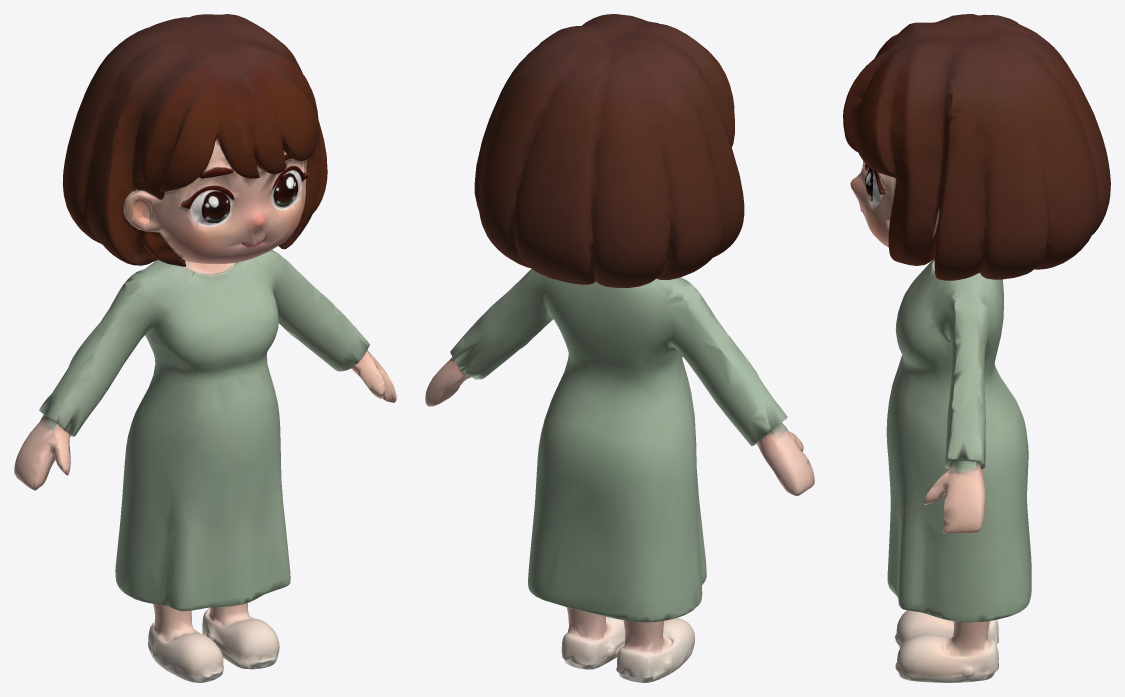
Rendered from char_yeoja_jubu_base.glb.
3 renders of one model, left to right at view 1: azimuth 30°, elevation 25°; view 2: azimuth 150°, elevation 25°; view 3: azimuth 270°, elevation 25°, orthographic.
Bounding box in the file's own units: 0.874 × 1.4 × 0.5416.
Materials: 1 (1 with a texture image).
